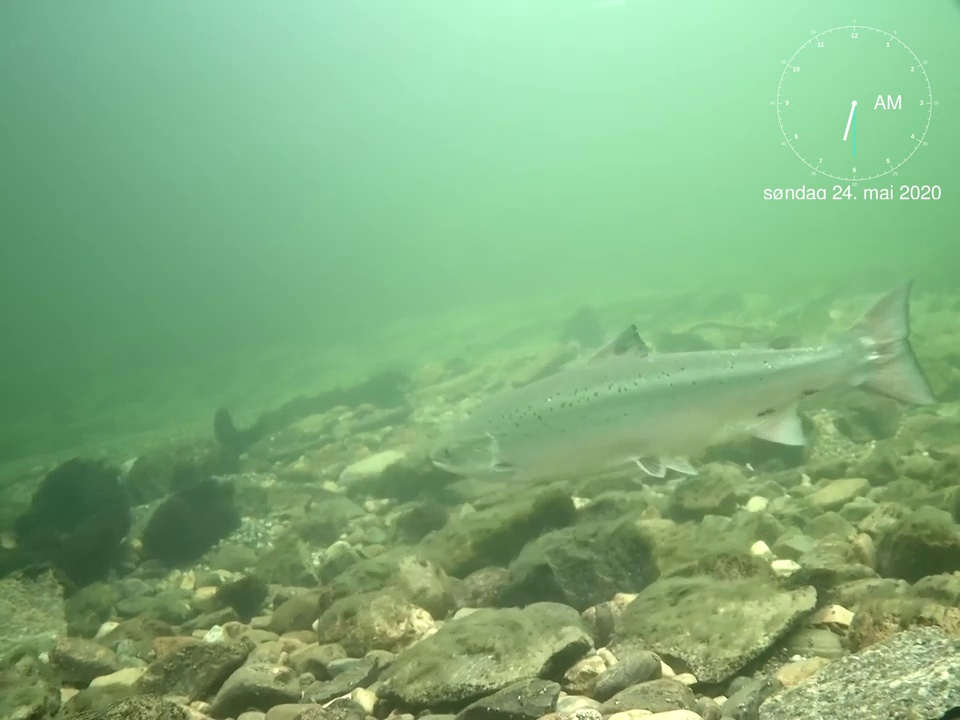salmon: (429, 277, 938, 484)
